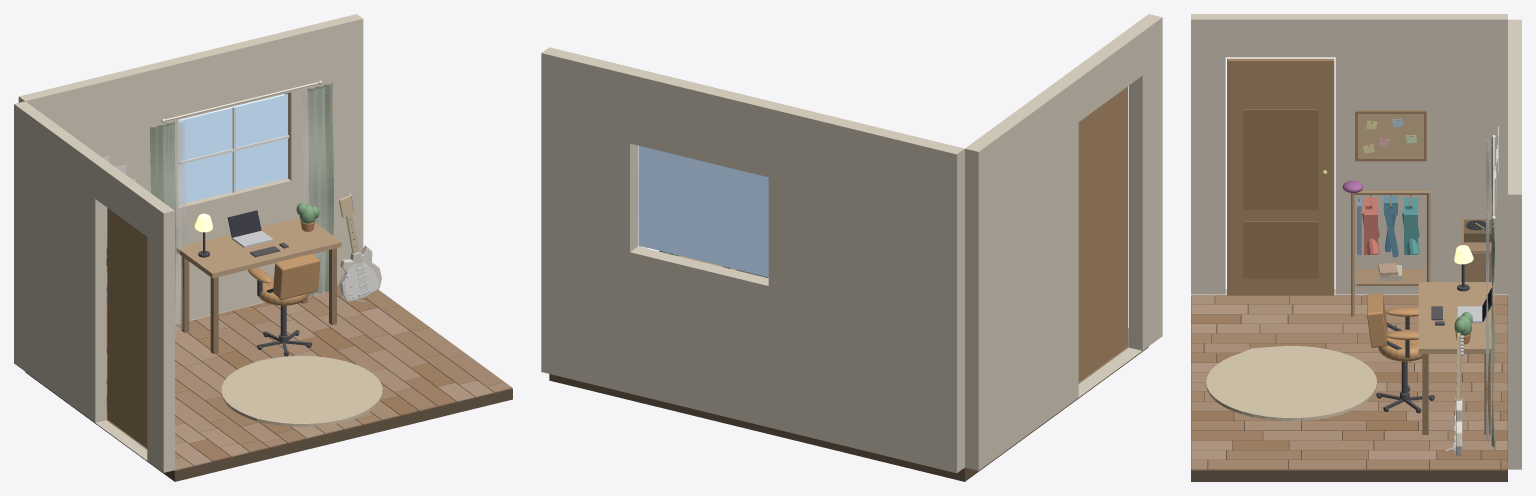
The model's file is study_room.glb.
3 renders of one model, left to right at view 1: azimuth 30°, elevation 25°; view 2: azimuth 150°, elevation 25°; view 3: azimuth 270°, elevation 25°, orthographic. The views are drawn at different scales.
Parts seen in each view (by area): view 1: BackWall, LeftWall, Rug, WindowGlass, DoorSlab, DeskTop, FloorBase, LinenCurtainR, SheerCurtainR, SheerCurtainL, LinenCurtainL, ChairBack (+27 smaller); view 2: BackWall, LeftWall, WindowGlass, DoorSlab, FloorBase; view 3: LeftWall, DoorSlab, Rug, DoorPanel, BackWall, FloorBase, DoorPanelLower, DeskTop, BoardCork, ChairBack, FloorPlank_15_90, RackShelf (+64 smaller).
Part boxes in pixels (bbox=[...]): BackWall: bbox=[18, 14, 363, 323]; LeftWall: bbox=[14, 101, 174, 472]; Rug: bbox=[221, 356, 382, 426]; WindowGlass: bbox=[179, 94, 287, 204]; DoorSlab: bbox=[107, 208, 147, 448]; DeskTop: bbox=[176, 217, 341, 278]; FloorBase: bbox=[25, 372, 512, 481]; LinenCurtainR: bbox=[307, 83, 333, 295]; SheerCurtainR: bbox=[302, 88, 325, 298]; SheerCurtainL: bbox=[163, 122, 186, 331]; LinenCurtainL: bbox=[149, 121, 176, 315]; ChairBack: bbox=[273, 253, 320, 299]; BackWall: bbox=[541, 47, 964, 473]; LeftWall: bbox=[965, 14, 1162, 470]; WindowGlass: bbox=[638, 146, 768, 277]; DoorSlab: bbox=[1078, 86, 1127, 382]; FloorBase: bbox=[549, 347, 1148, 481]; LeftWall: bbox=[1191, 14, 1507, 294]; DoorSlab: bbox=[1227, 58, 1334, 295]; Rug: bbox=[1206, 346, 1377, 420]; DoorPanel: bbox=[1243, 109, 1318, 209]; BackWall: bbox=[1508, 19, 1521, 469]; FloorBase: bbox=[1191, 295, 1507, 481]; DoorPanelLower: bbox=[1243, 221, 1318, 278]; DeskTop: bbox=[1418, 282, 1494, 353]; BoardCork: bbox=[1358, 114, 1423, 158]; ChairBack: bbox=[1367, 293, 1387, 347]; FloorPlank_15_90: bbox=[1289, 440, 1373, 450]; RackShelf: bbox=[1356, 269, 1425, 285].
Size of the model in its own units: 3.1 by 2.3 by 2.4.
